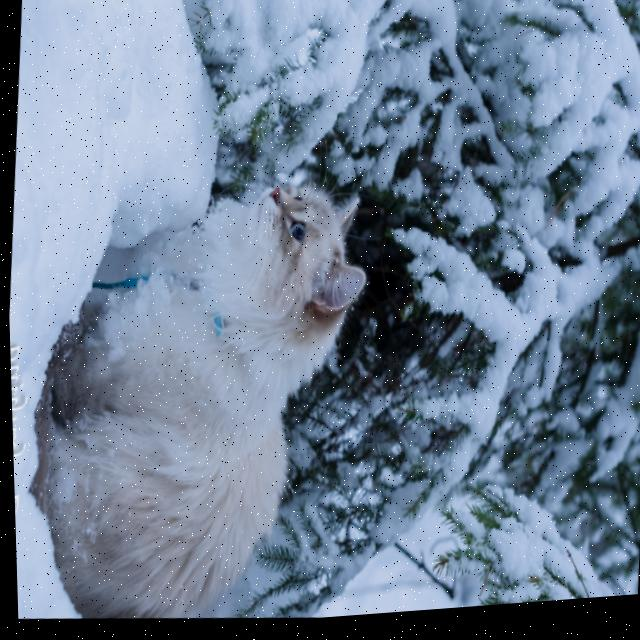Neva Masquerade: (10, 153, 383, 640)
